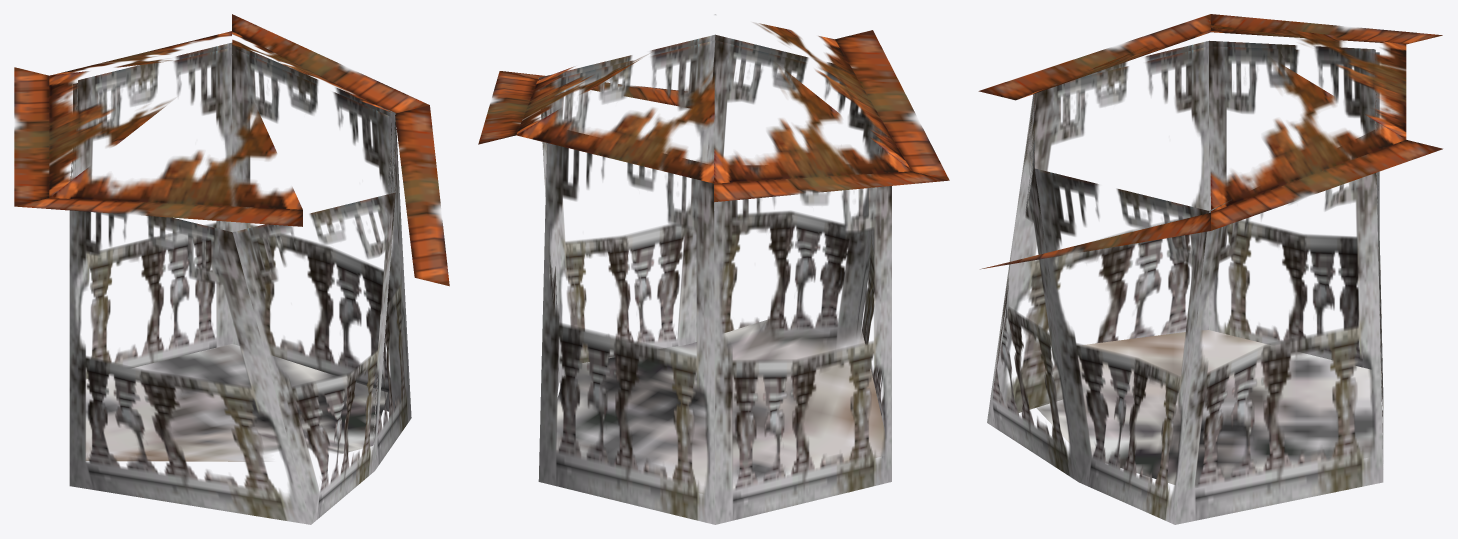
The model's file is Environment - Prop - Park Gazebo - Damaged - PMGazebo_D.glb.
3 renders of one model, left to right at view 1: azimuth 30°, elevation 25°; view 2: azimuth 150°, elevation 25°; view 3: azimuth 270°, elevation 25°, orthographic. The views are drawn at different scales.
Parts seen in each view (by area): view 1: PMGAZEBO_D; view 2: PMGAZEBO_D; view 3: PMGAZEBO_D.
Boxes of the visible parts, left/top/right/bottom form: PMGAZEBO_D: left=14, top=14, right=449, bottom=524; PMGAZEBO_D: left=478, top=14, right=949, bottom=524; PMGAZEBO_D: left=978, top=14, right=1442, bottom=524.
Bounding box in the file's own units: 19.8 × 17.85 × 17.96.
1 material, 1 textured.
